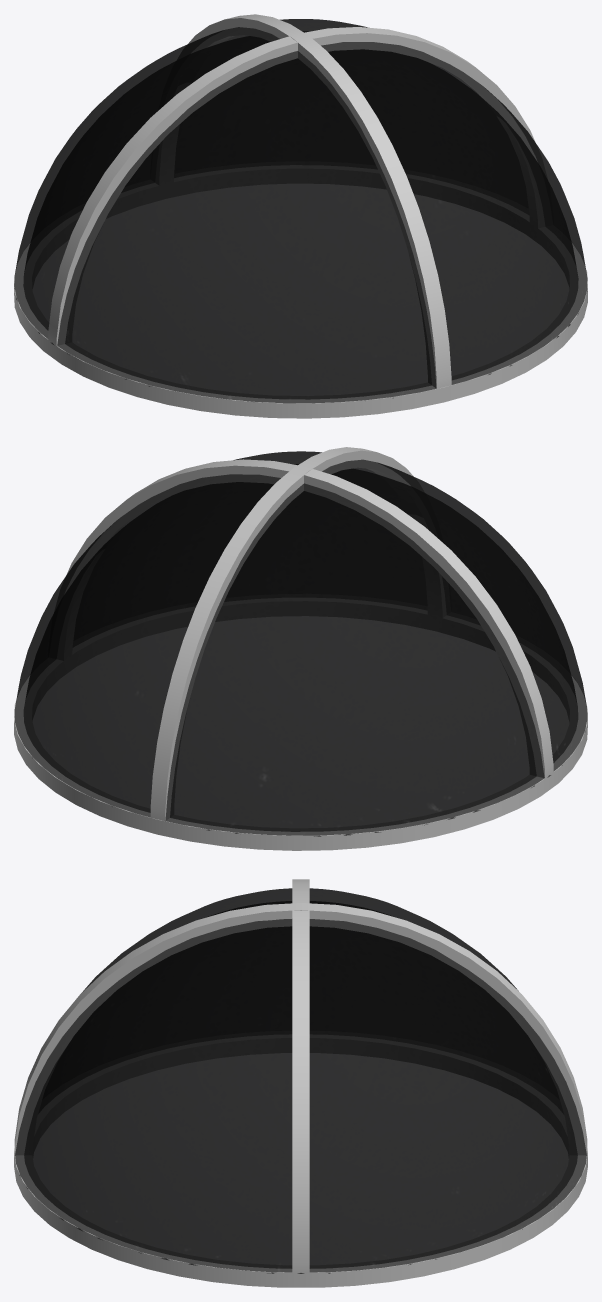
File: glass_2x2_dome.fbx
The picture shows the model from 3 angles, top to bottom: view 1: azimuth 30°, elevation 25°; view 2: azimuth 150°, elevation 25°; view 3: azimuth 270°, elevation 25°; orthographic projection.
Parts seen in each view (by area): view 1: glass_2x2_dome; view 2: glass_2x2_dome; view 3: glass_2x2_dome.
Boxes of the visible parts, <box> form: glass_2x2_dome: <box>14,14,587,418</box>; glass_2x2_dome: <box>14,447,587,850</box>; glass_2x2_dome: <box>14,879,587,1287</box>.
Bounding box in the file's own units: 90 × 45 × 90.
